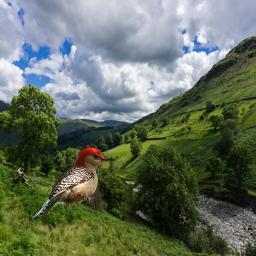Woodpecker: (32, 145, 118, 219)
